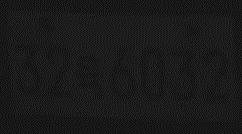0: (136, 47, 164, 103)
2: (198, 48, 234, 108), (44, 49, 74, 103)
3: (10, 45, 43, 97), (167, 47, 195, 104)
6: (110, 44, 135, 100)
육: (74, 53, 104, 99)
